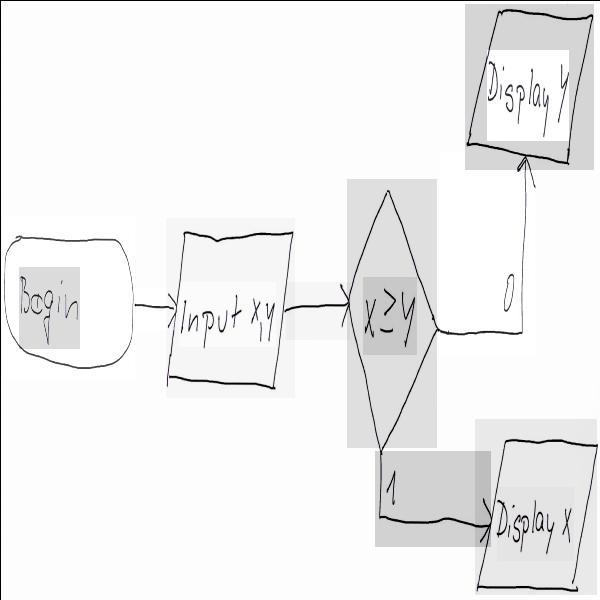arrow: (438, 150, 534, 354), (374, 450, 490, 546), (285, 281, 349, 339), (135, 287, 176, 329)
data: (165, 217, 294, 397), (474, 418, 596, 594), (464, 3, 593, 169)
decision: (346, 178, 436, 447)
terminator: (2, 215, 134, 380)
text: (486, 49, 568, 140), (178, 281, 275, 346), (496, 487, 573, 560), (18, 266, 79, 349), (362, 276, 416, 354), (496, 261, 517, 325), (383, 456, 399, 510)
